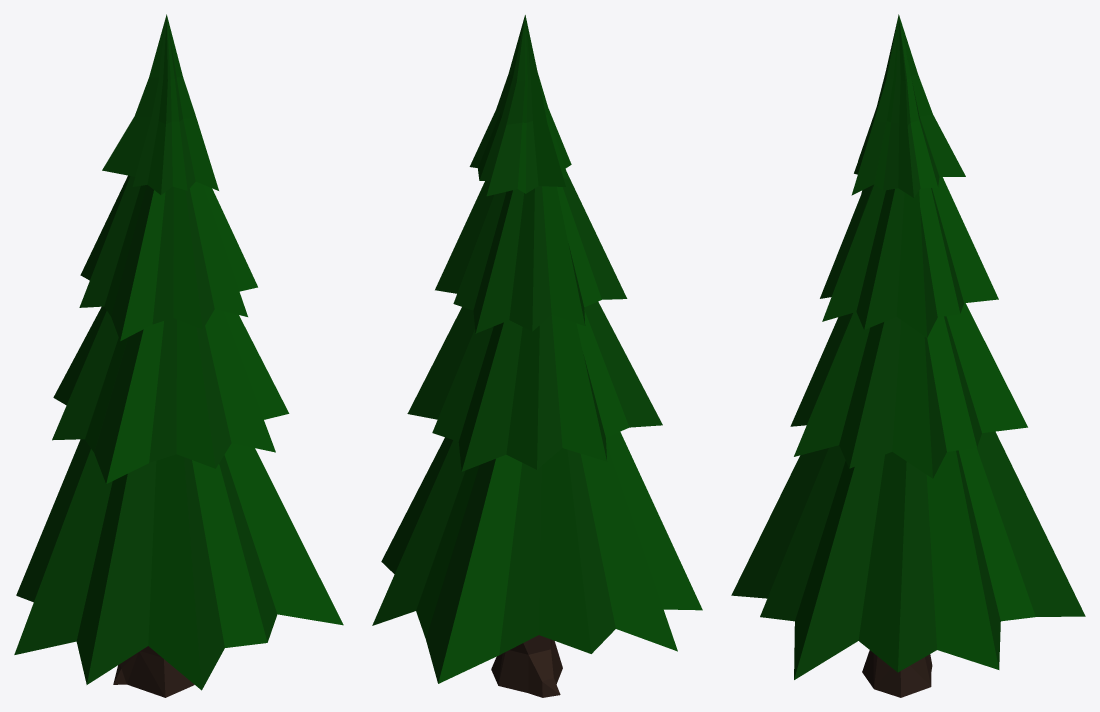
The model's file is Tree06.fbx.
The picture shows the model from 3 angles, left to right: view 1: azimuth 30°, elevation 25°; view 2: azimuth 150°, elevation 25°; view 3: azimuth 270°, elevation 25°; orthographic projection.
Parts seen in each view (by area): view 1: Tree04; view 2: Tree04; view 3: Tree04.
Boxes of the visible parts, x1,y1,x2,y2 form: Tree04: [14, 14, 343, 697]; Tree04: [372, 15, 702, 697]; Tree04: [731, 14, 1085, 697].
Size of the model in its own units: 1.08 by 2.3 by 1.1.
